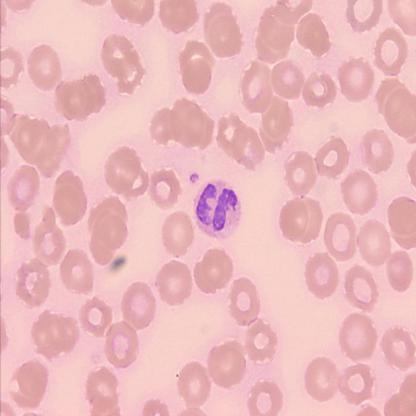Segmented neutrophil: (189, 177, 242, 240)
